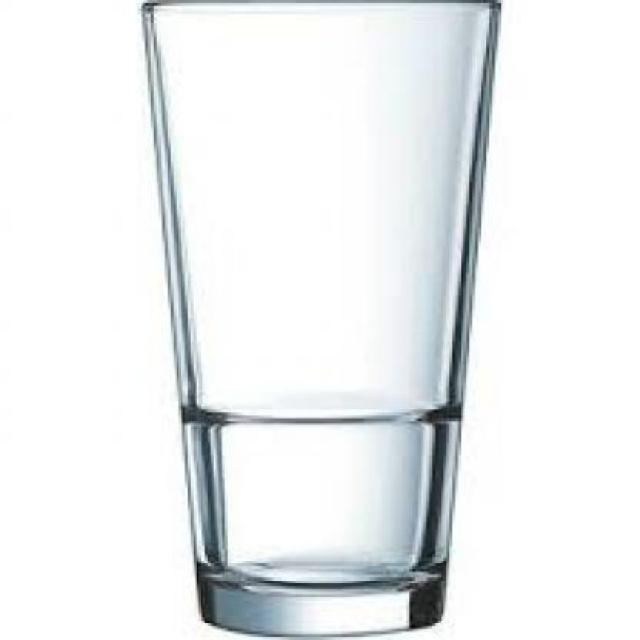kaca: (137, 0, 495, 637)
